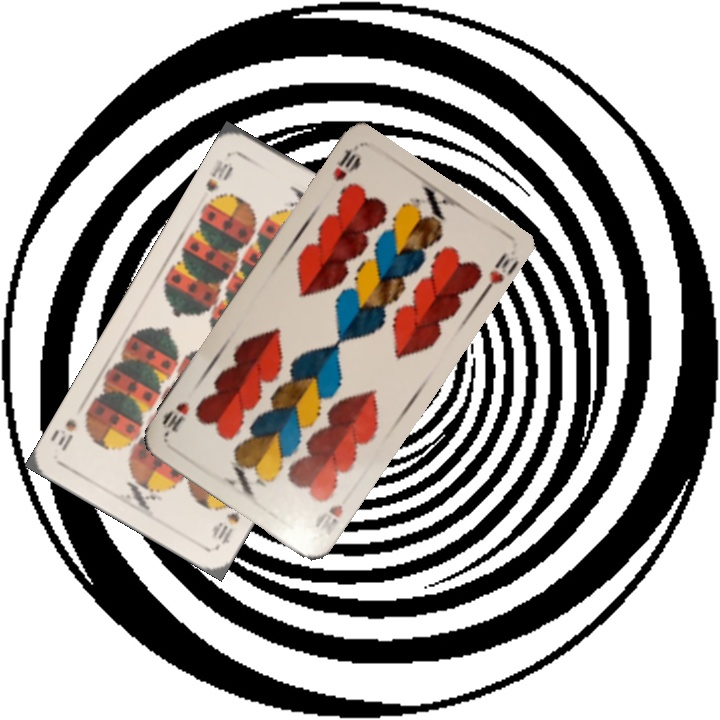H10: (328, 142, 364, 185), (310, 500, 346, 530)
S10: (208, 507, 243, 549), (202, 155, 236, 195)
